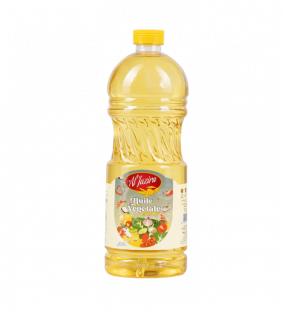AL JAZIRA: (99, 24, 194, 284)
